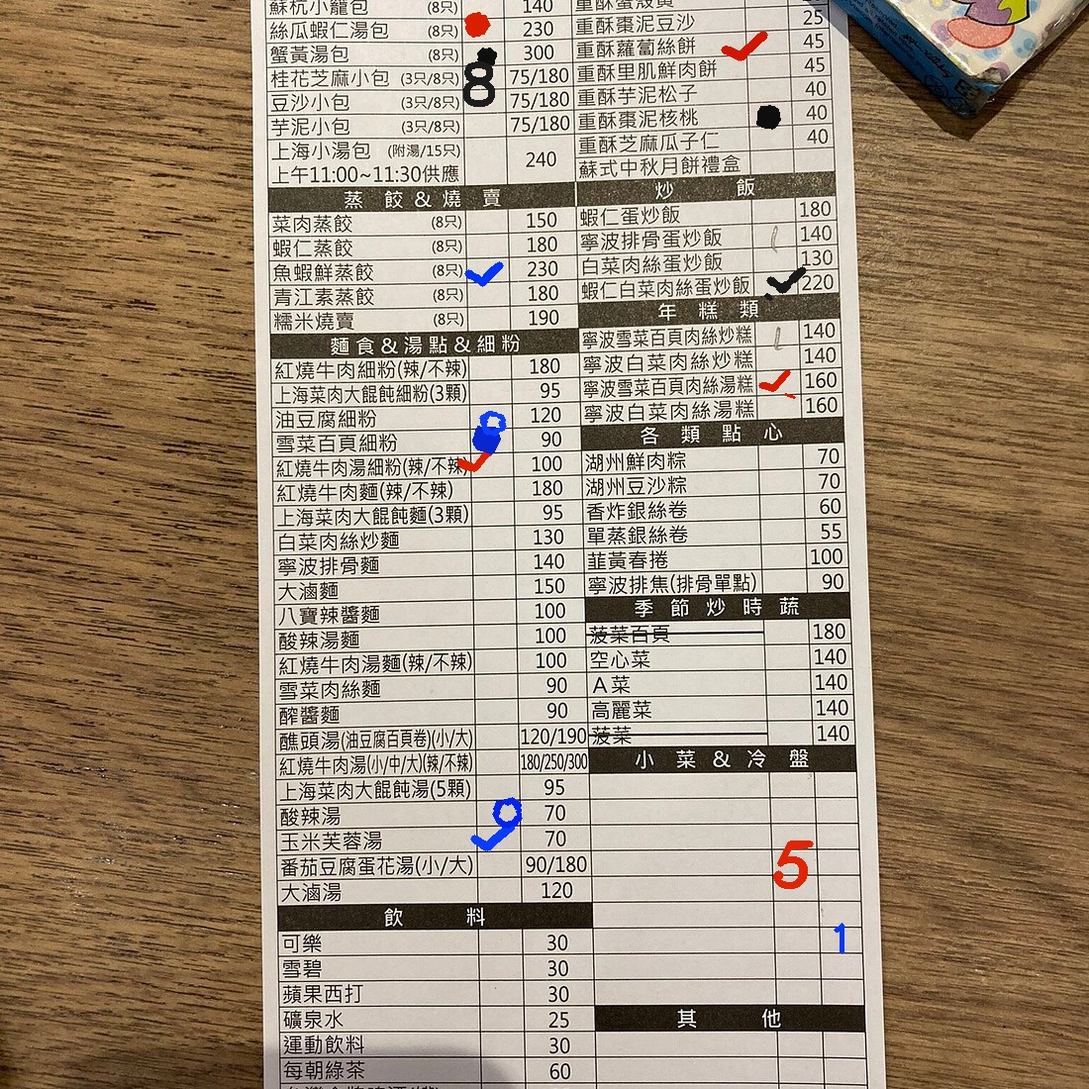marked_circle: (749, 97, 793, 125), (460, 15, 504, 43), (468, 428, 512, 455), (461, 39, 505, 66)
marked_hollow: (468, 402, 512, 430), (477, 801, 521, 829)
marked_number_1: (819, 926, 862, 953)
marked_number_5: (772, 846, 816, 874)
marked_number_8: (461, 62, 505, 90)
marked_tick: (754, 267, 798, 295), (468, 452, 512, 480), (757, 369, 801, 397), (468, 257, 512, 285), (744, 29, 788, 56), (477, 826, 521, 853)
